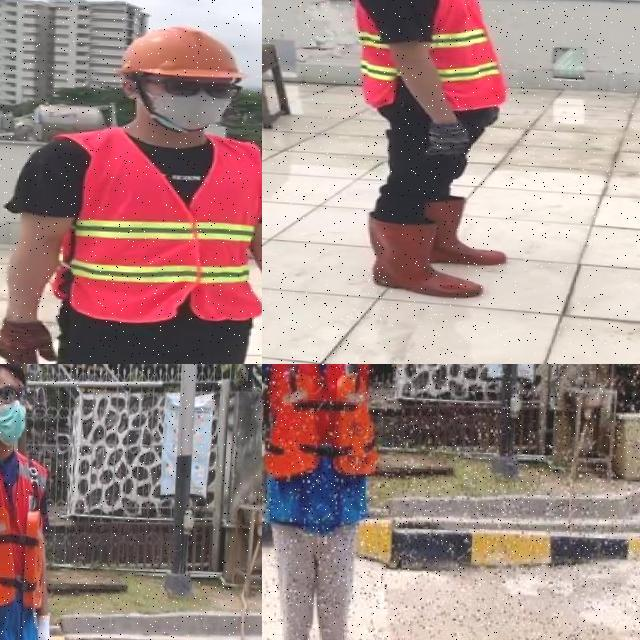boots: (361, 216, 484, 302), (424, 197, 511, 270)
helmet: (110, 18, 258, 88)
vest: (49, 126, 262, 322), (262, 364, 407, 539), (347, 0, 513, 112), (0, 444, 50, 640)
